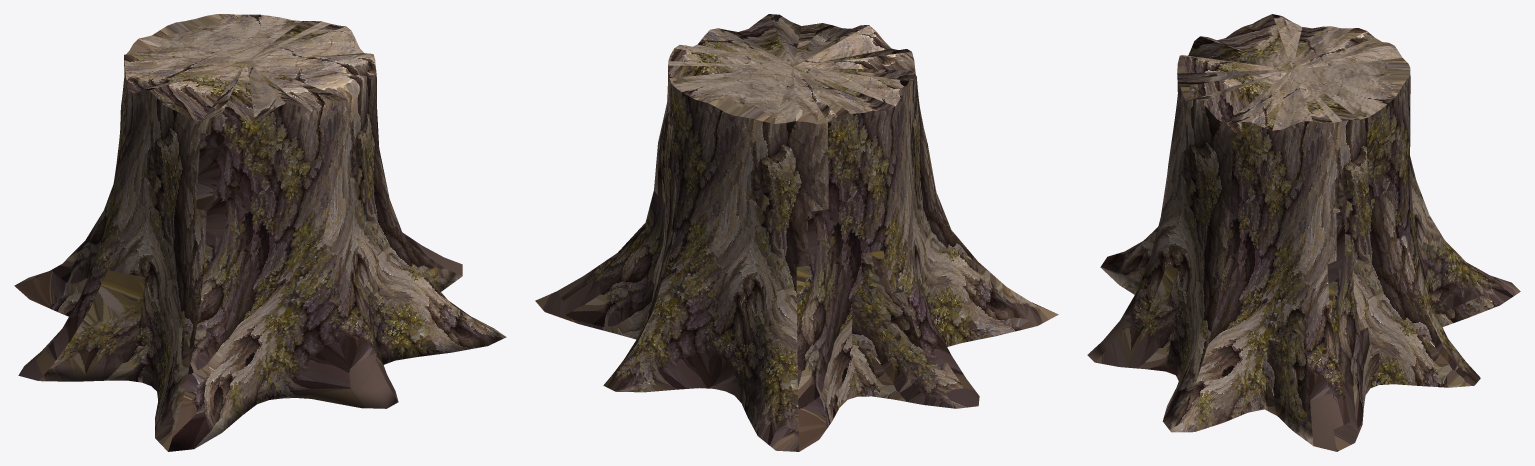
File: dead-stump.glb
The picture shows the model from 3 angles, left to right: view 1: azimuth 30°, elevation 25°; view 2: azimuth 150°, elevation 25°; view 3: azimuth 270°, elevation 25°; orthographic projection. The views are drawn at different scales.
Visible parts, largest first — view 1: dead-stump; view 2: dead-stump; view 3: dead-stump.
Boxes of the visible parts, box(x1,y1,x2,y2) form: dead-stump: box(14, 14, 506, 451); dead-stump: box(535, 14, 1058, 451); dead-stump: box(1087, 14, 1520, 451).
Size of the model in its own units: 1.06 by 0.6411 by 0.9183.
Materials: 1 (1 with a texture image).
